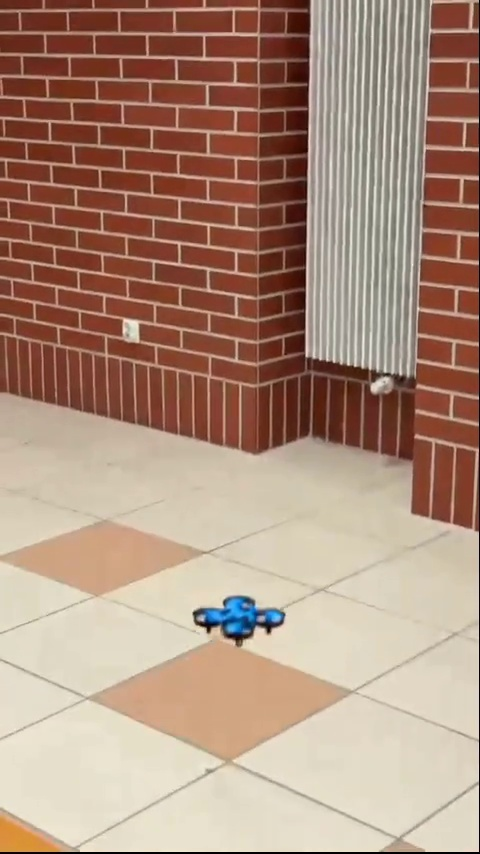drone: (194, 598, 287, 647)
